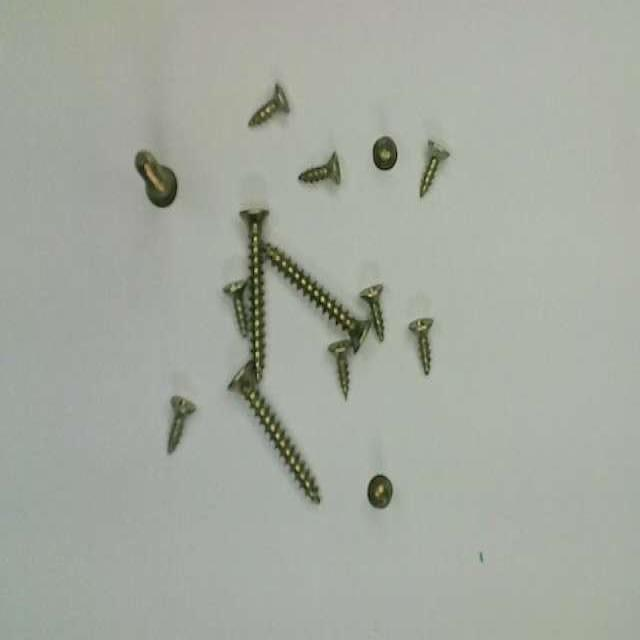Parafuso: (229, 364, 320, 500), (262, 243, 369, 351), (241, 211, 268, 380), (135, 151, 177, 205), (248, 83, 289, 125), (419, 140, 448, 196), (168, 397, 195, 452), (223, 279, 247, 336), (360, 285, 383, 340), (409, 319, 432, 373), (329, 340, 350, 399), (298, 152, 340, 181), (368, 475, 392, 507), (373, 136, 396, 169)
